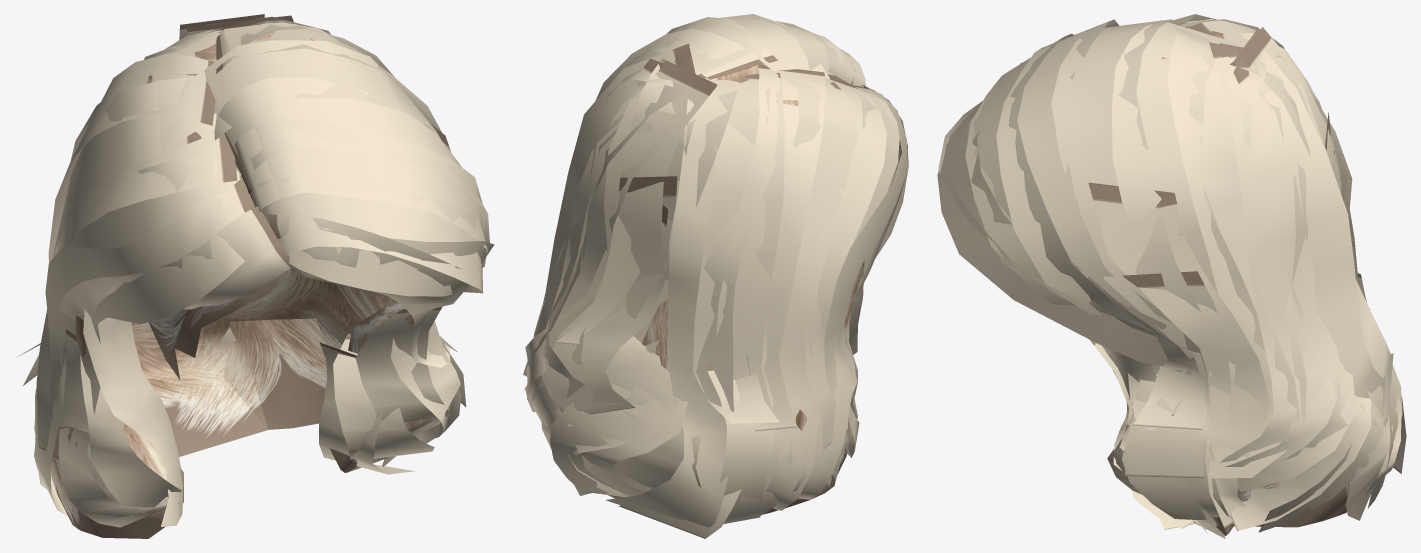
The model's file is hair_006.obj.
3 views of the same model, side by side, from view 1: azimuth 30°, elevation 25°; view 2: azimuth 150°, elevation 25°; view 3: azimuth 270°, elevation 25° (orthographic). The views are drawn at different scales.
Size of the model in its own units: 22.56 by 29.25 by 26.75.
